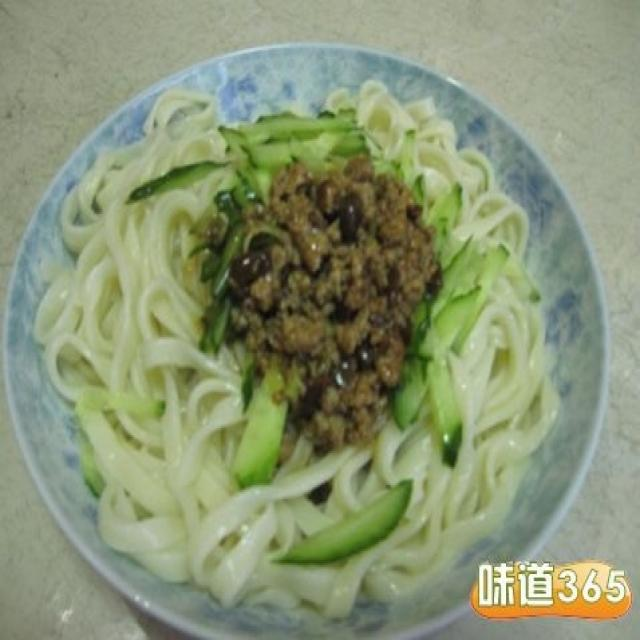面条主食: (15, 51, 616, 634)
